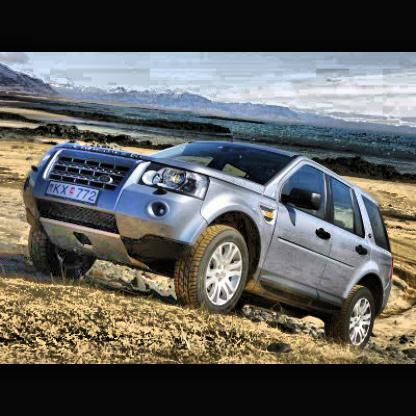Land Rover LR2 SUV 2012: (23, 143, 395, 358)
